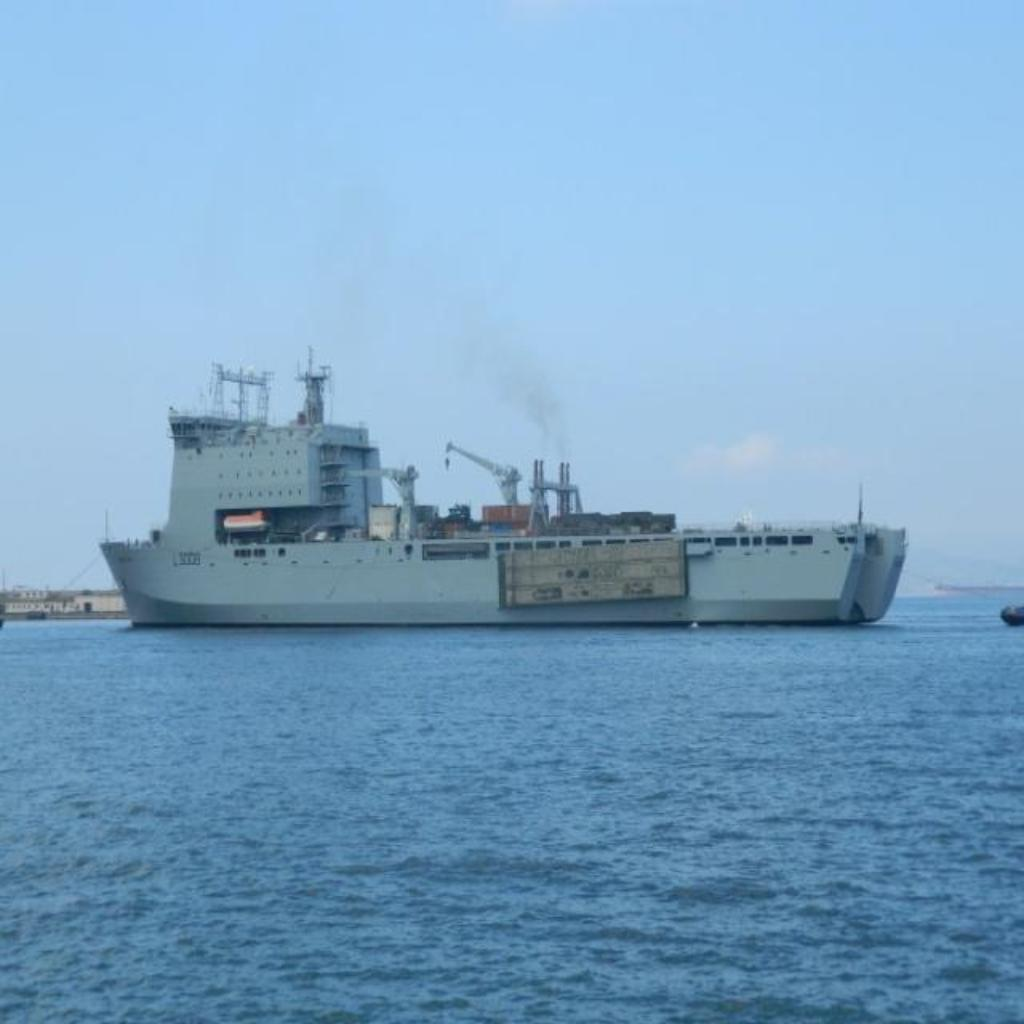Warship: (96, 328, 912, 636)
